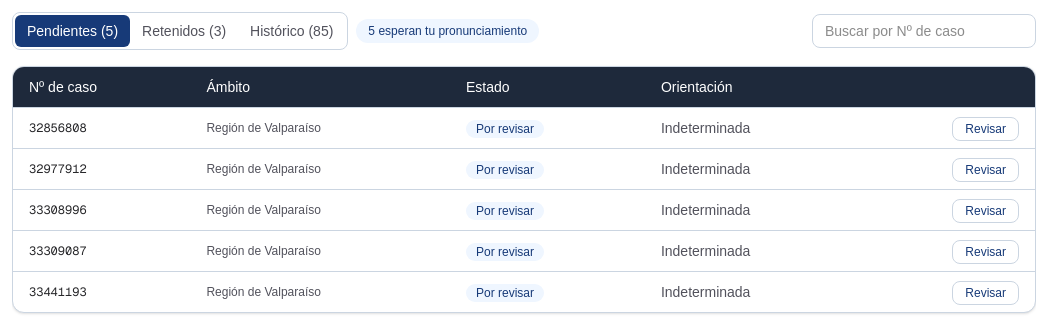
Bandeja · las tres pestañas cubren todo lo asignado › un expediente retenido aparece en Retenidos y NO entre los pendientes
Expected: the button "Pendientes (5)" is shown, left=15, top=15, right=130, bottom=47
Expected: the text "32895245" is not shown
Click the button "Retenidos (3)" at point(184, 31), box left=130, top=15, right=238, bottom=47
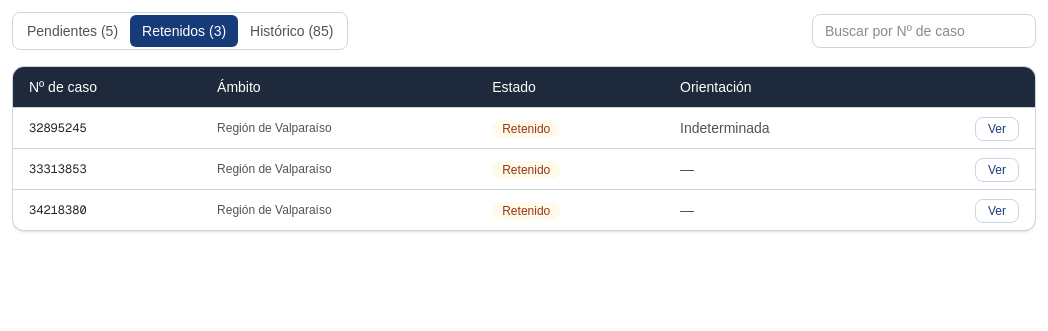
Expected: the text "32895245" is shown, left=13, top=108, right=201, bottom=148
Expected: the text "33313853" is shown, left=13, top=148, right=201, bottom=190
Expected: the text "34218380" is shown, left=13, top=190, right=201, bottom=230
